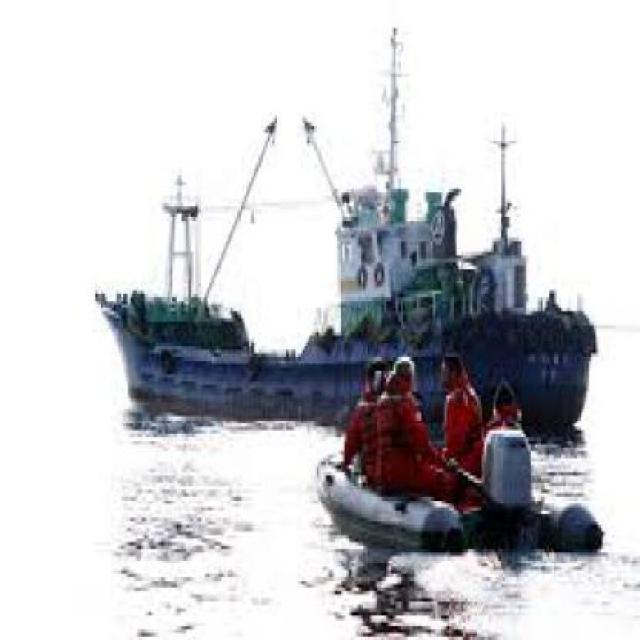fish-b: (80, 15, 617, 459)
